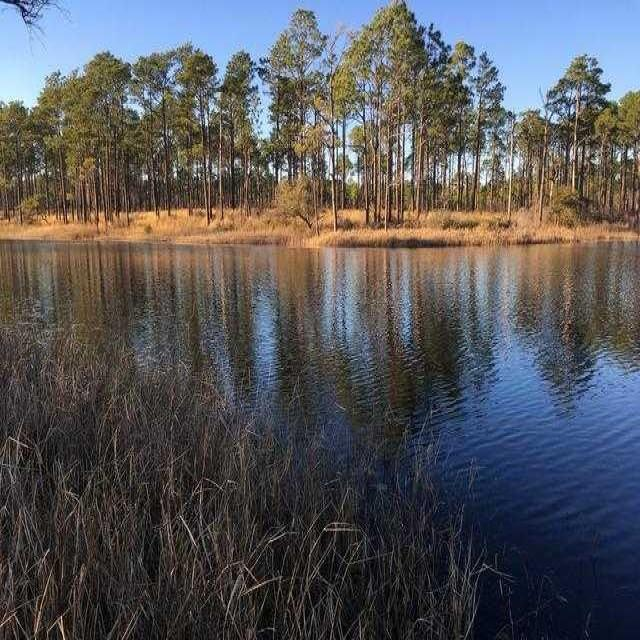Ponds: (1, 236, 638, 635)
